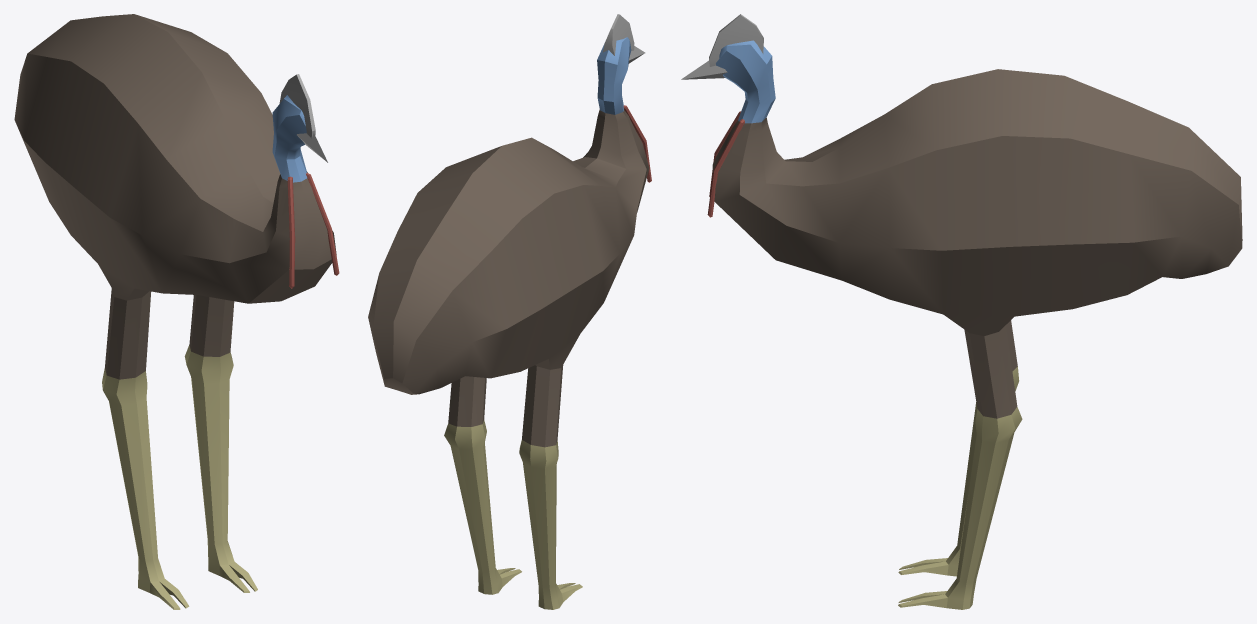
File: Cassowary.fbx
3 views of the same model, side by side, from view 1: azimuth 30°, elevation 25°; view 2: azimuth 150°, elevation 25°; view 3: azimuth 270°, elevation 25° (orthographic). The views are drawn at different scales.
Parts seen in each view (by area): view 1: pCube1, Horn, Dangly2, Dangly; view 2: pCube1, Horn; view 3: pCube1, Horn.
Boxes of the visible parts, <box> form: pCube1: <box>14,14,336,609</box>; Horn: <box>279,74,315,138</box>; Dangly2: <box>287,176,295,288</box>; Dangly: <box>306,173,339,275</box>; pCube1: <box>368,37,649,609</box>; Horn: <box>603,14,634,55</box>; pCube1: <box>712,40,1242,609</box>; Horn: <box>709,14,763,66</box>.
Size of the model in its own units: 3.24 by 10.42 by 9.26.
